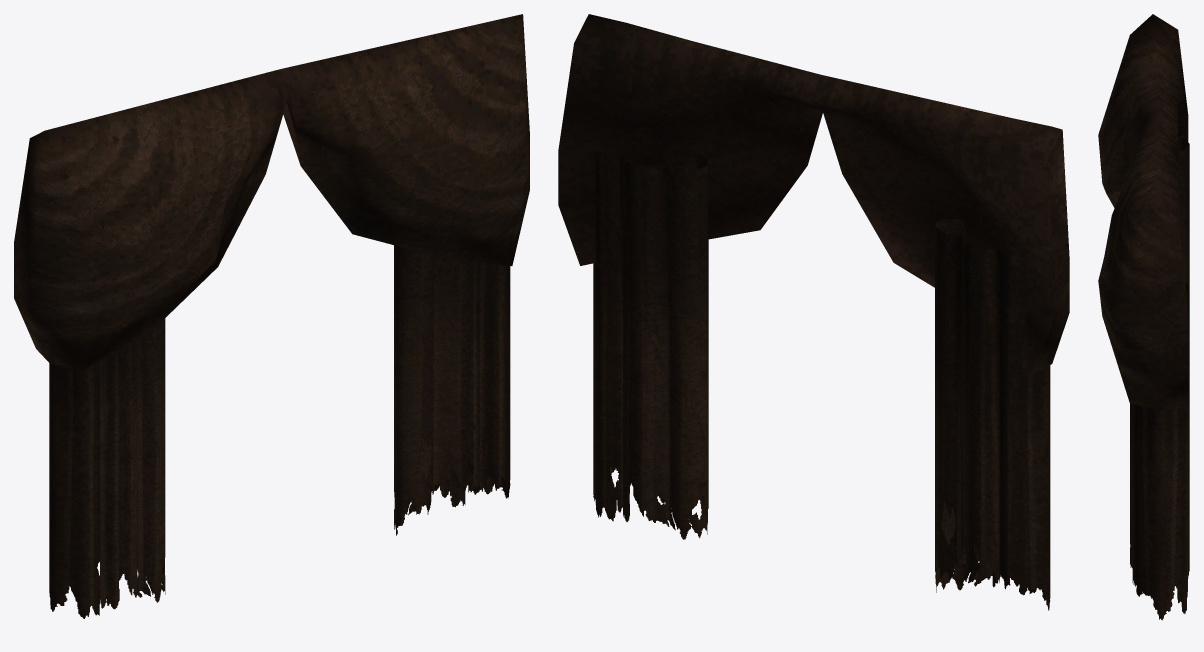
The model's file is curtain06_long_broken.dae.
The picture shows the model from 3 angles, left to right: view 1: azimuth 30°, elevation 25°; view 2: azimuth 150°, elevation 25°; view 3: azimuth 270°, elevation 25°; orthographic projection. The views are drawn at different scales.
Visible parts, largest first — view 1: polySurface191, polySurface192; view 2: polySurface191, polySurface192; view 3: polySurface191.
Part boxes in pixels (bbox=[...]): polySurface191: bbox=[14, 14, 529, 618]; polySurface192: bbox=[68, 419, 494, 594]; polySurface191: bbox=[558, 14, 1069, 610]; polySurface192: bbox=[610, 466, 1030, 593]; polySurface191: bbox=[1098, 14, 1189, 620].
Size of what is drawn, in the model's own units: 2.5 by 2.42 by 0.4673.
